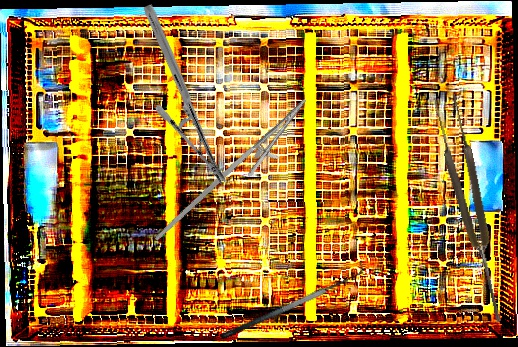Needle Holder: (86, 1, 284, 188), (154, 82, 319, 267)
Spatula Surgical: (214, 259, 370, 342)
Tissue Forceps: (431, 92, 511, 326)
